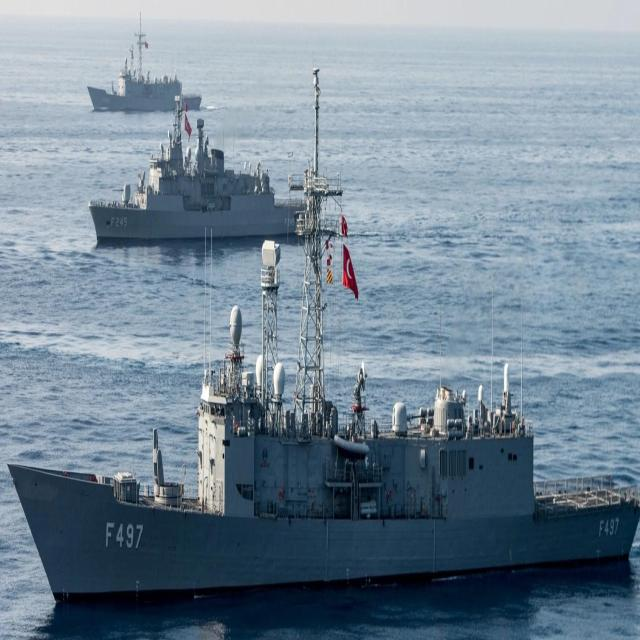navalvessels: (4, 265, 640, 629), (87, 94, 319, 231), (81, 9, 208, 138)
